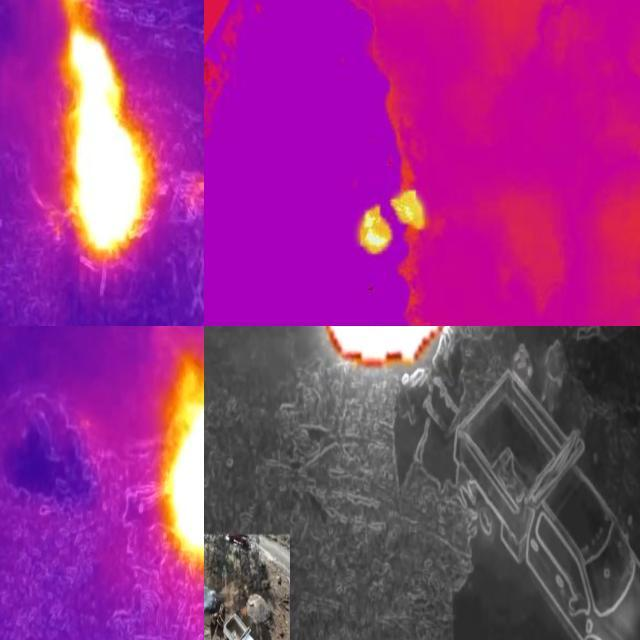fire: (62, 4, 148, 261), (295, 1, 442, 98), (155, 361, 205, 581), (320, 327, 455, 372), (354, 183, 433, 254)
